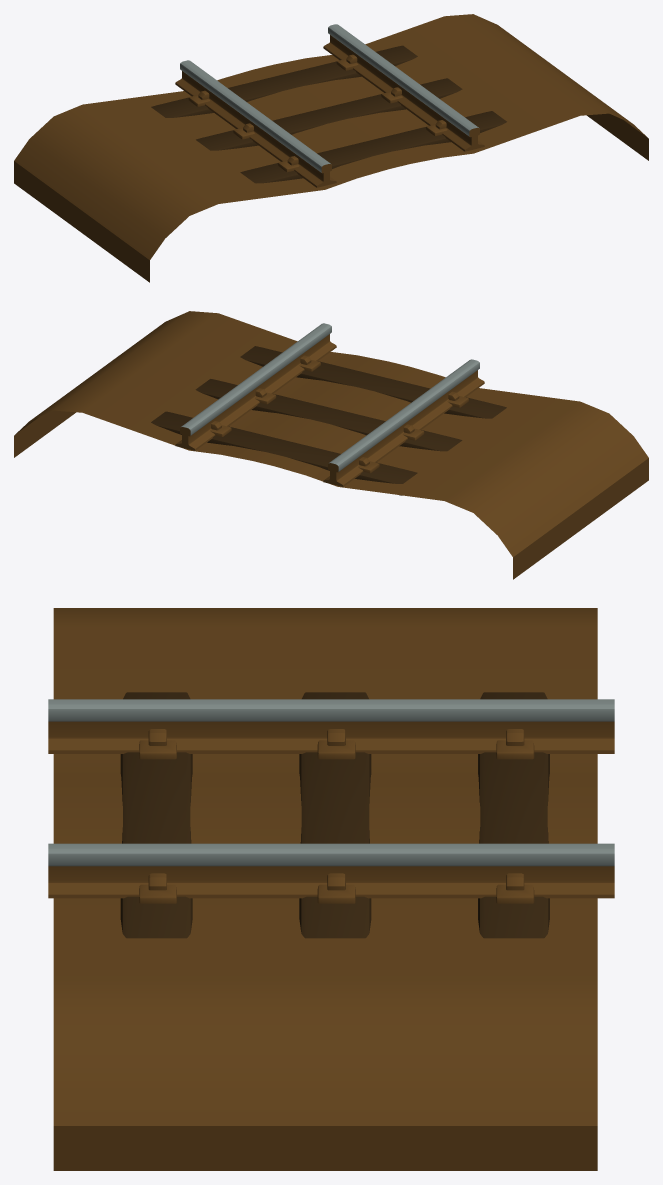
Rendered from rel_realsclae.fbx.
3 renders of one model, top to bottom at view 1: azimuth 30°, elevation 25°; view 2: azimuth 150°, elevation 25°; view 3: azimuth 270°, elevation 25°, orthographic. The views are drawn at different scales.
Visible parts, largest first — view 1: Rel+Kerikil; view 2: Rel+Kerikil; view 3: Rel+Kerikil.
Part boxes in pixels (x1,y1,x2,y2): Rel+Kerikil: (14, 14, 648, 282); Rel+Kerikil: (14, 311, 648, 579); Rel+Kerikil: (48, 608, 614, 1170).
Bounding box in the file's own units: 382 × 55.94 × 187.
